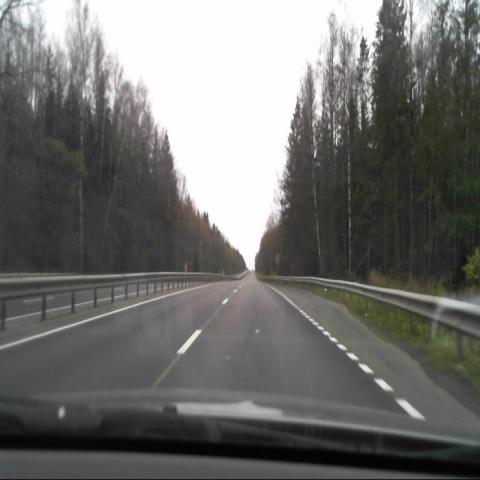3_27: (274, 252, 281, 266)
